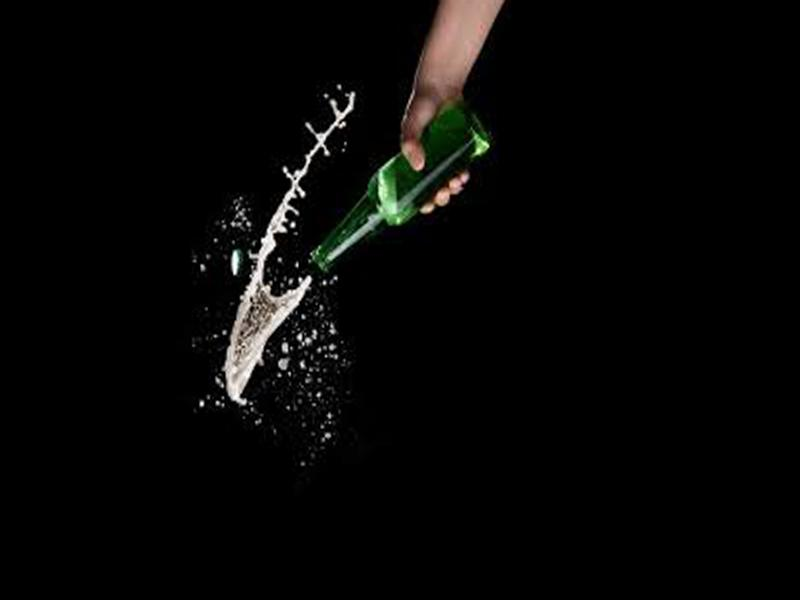Beer: (309, 99, 496, 271)
